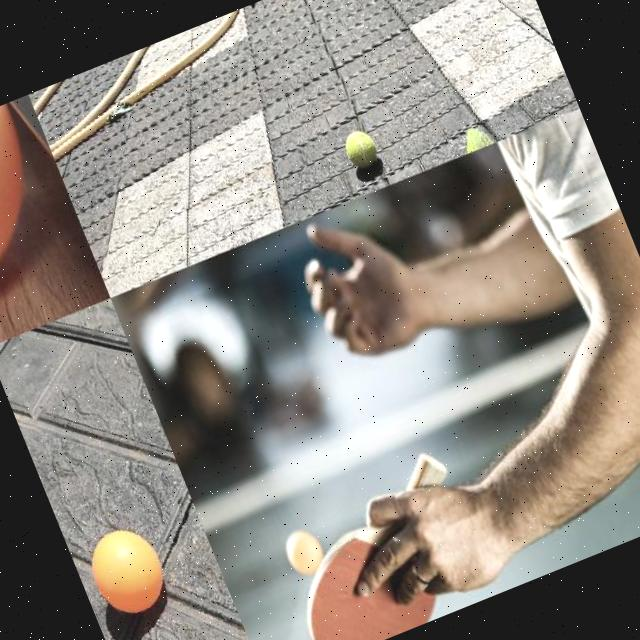ping-pong-ball: (0, 102, 65, 291), (80, 518, 174, 620), (278, 522, 328, 577)
